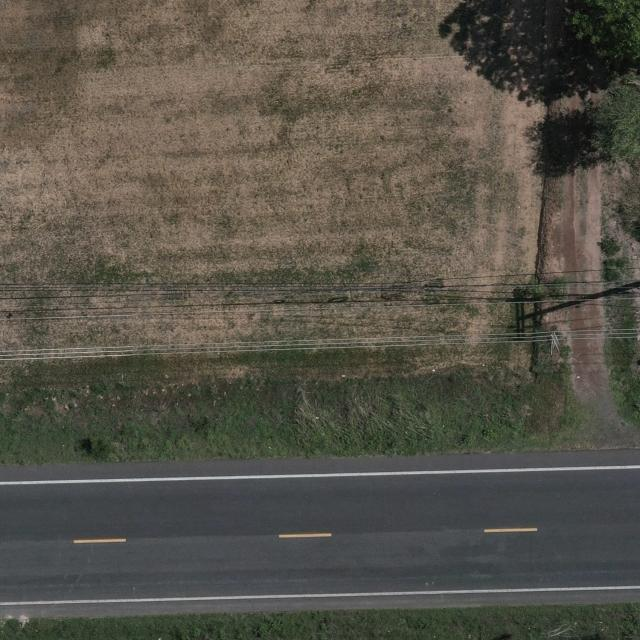Tree: (556, 0, 640, 75), (589, 80, 640, 164)
